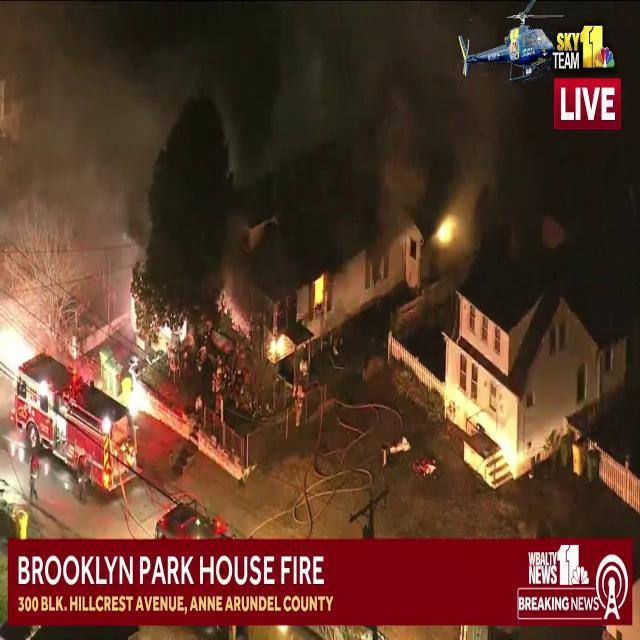Smoke: (240, 0, 542, 236), (0, 0, 223, 312)
